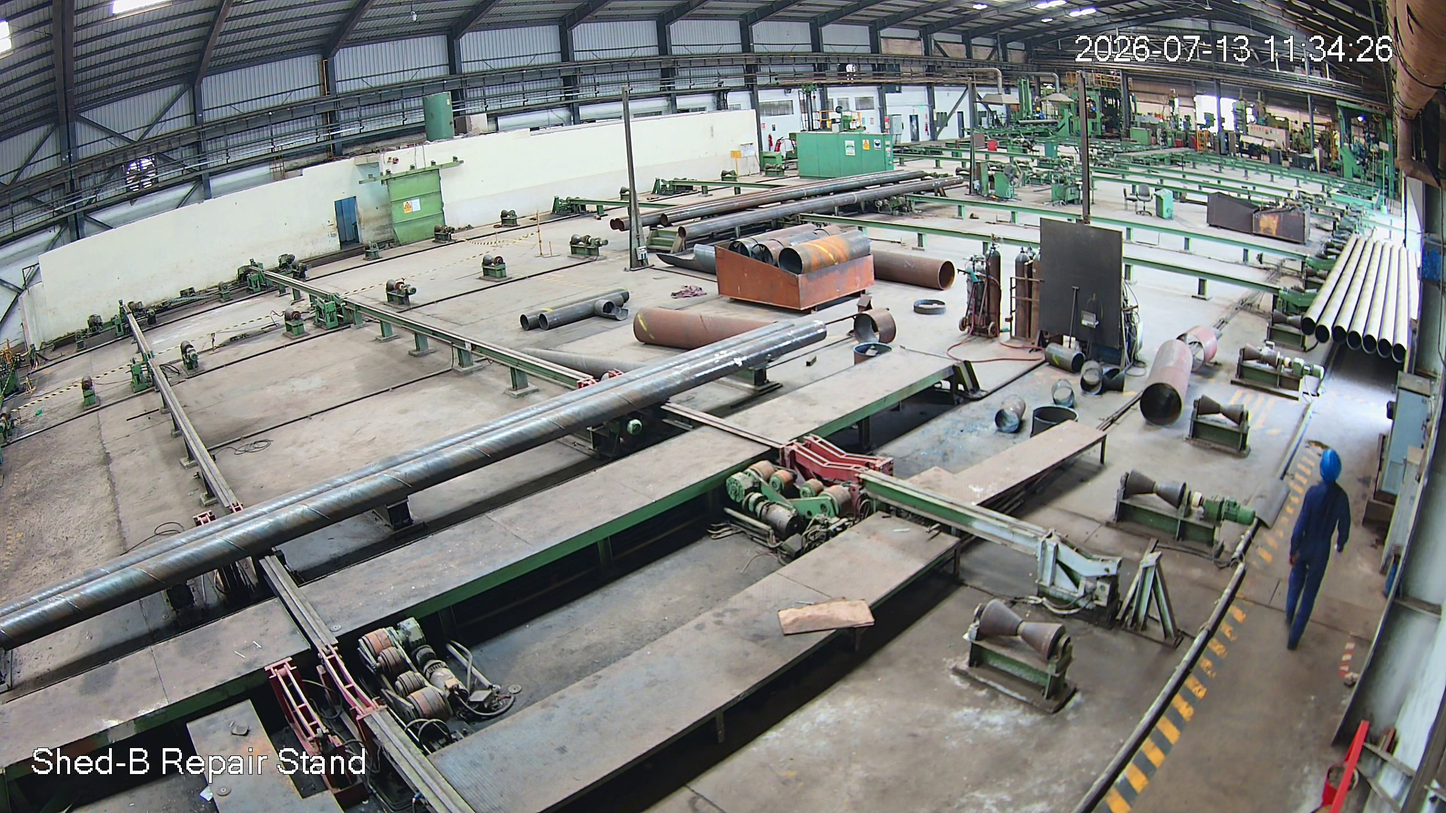Helmet: (1316, 447, 1346, 493)
Person: (1281, 450, 1357, 656)
